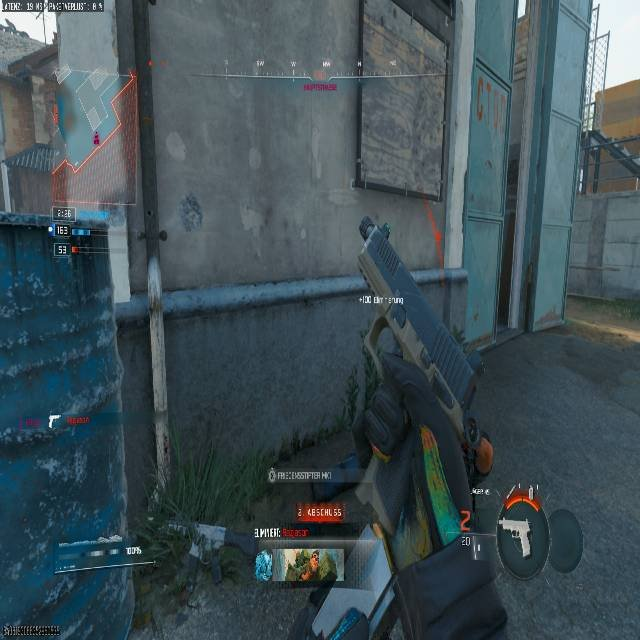player: (348, 316, 494, 488)
